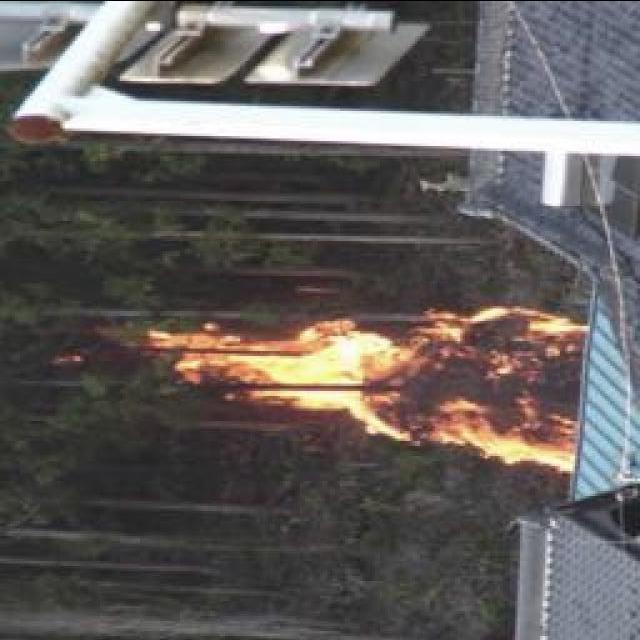Fire: (170, 310, 584, 466)
